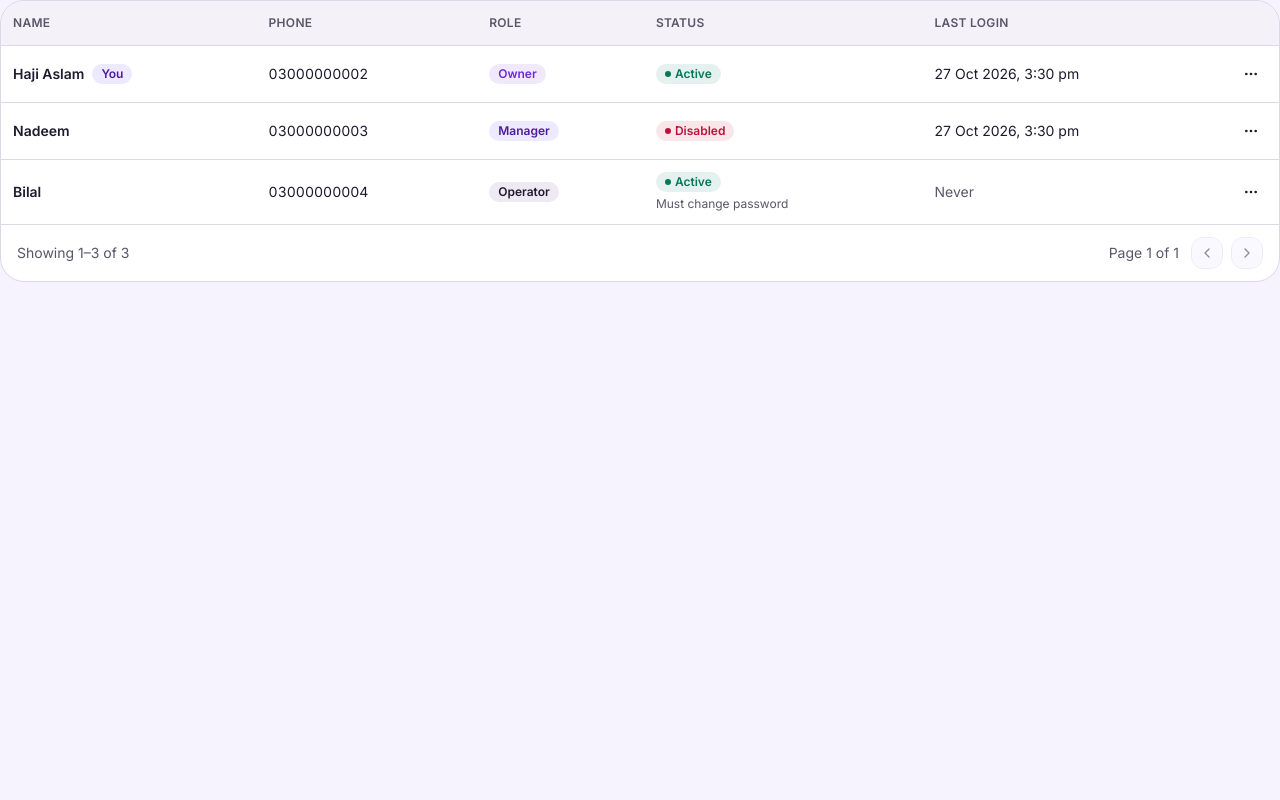
StaffTable › keeps the dialog open and shows a toast when the server refuses
The image size is (1280, 800).
Press Enter in the button named "Actions for Bilal", box x1=1235 y1=176 x2=1267 y2=208
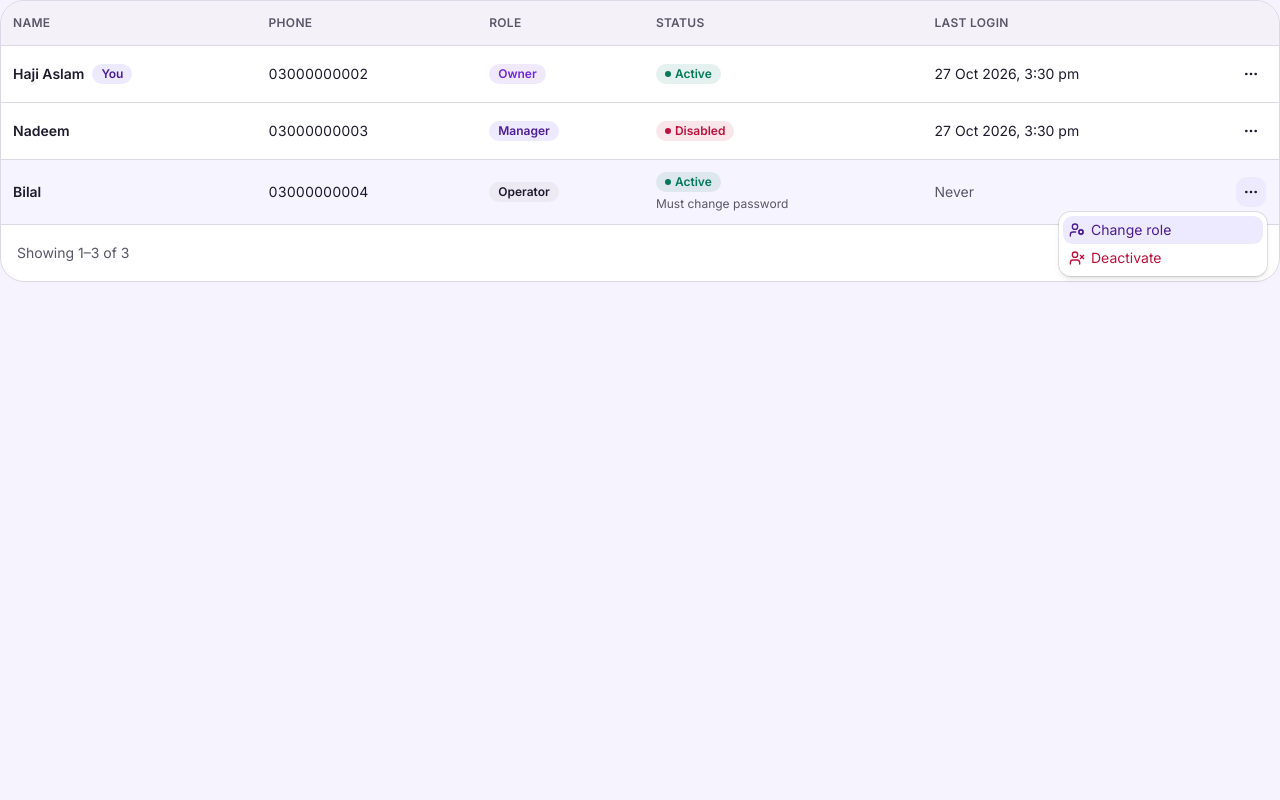
Click the menu item "Deactivate": point(1115, 258) x1=1069 y1=249 x2=1162 y2=266
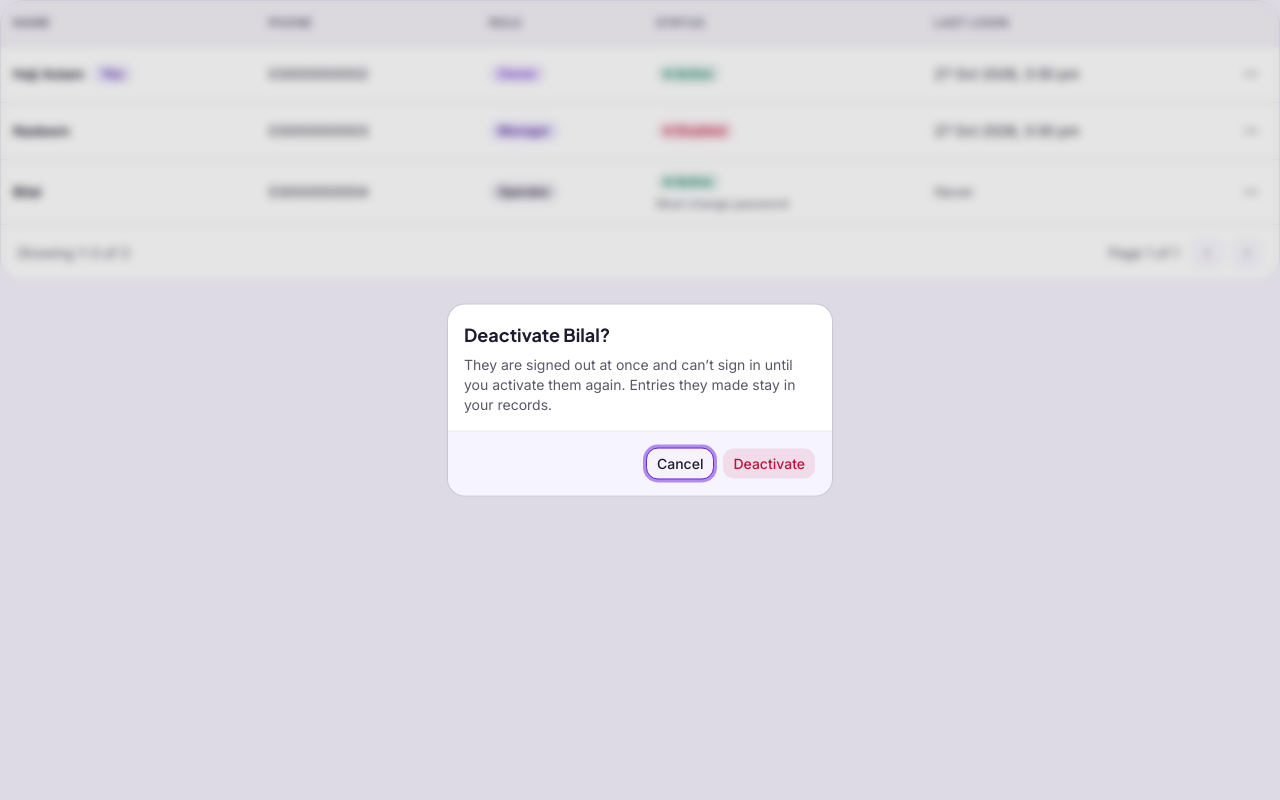
Click the button "Deactivate": point(769, 464) x1=722 y1=448 x2=816 y2=480
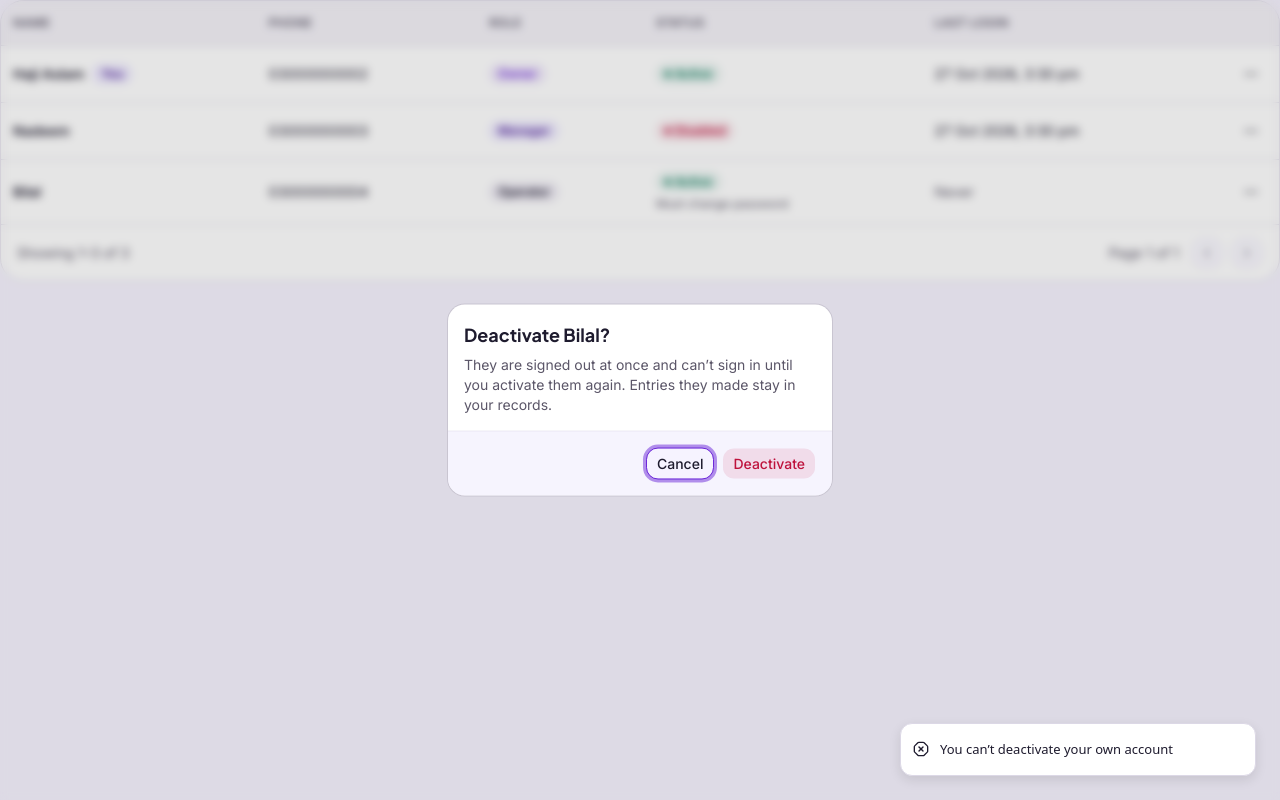
Now the dialog is shown, box x1=448 y1=304 x2=832 y2=496
Now the text "You can’t deactivate your own account" is shown, box x1=940 y1=740 x2=1173 y2=759
